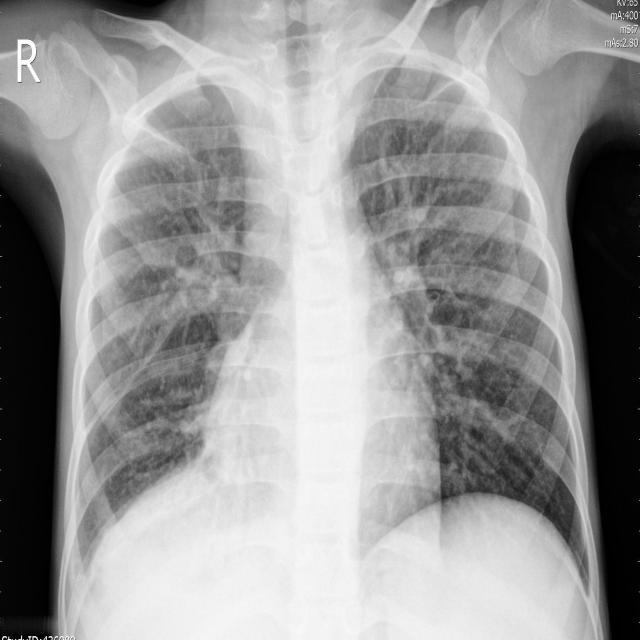low-pneumonia: (374, 152, 467, 329), (152, 185, 241, 340)
